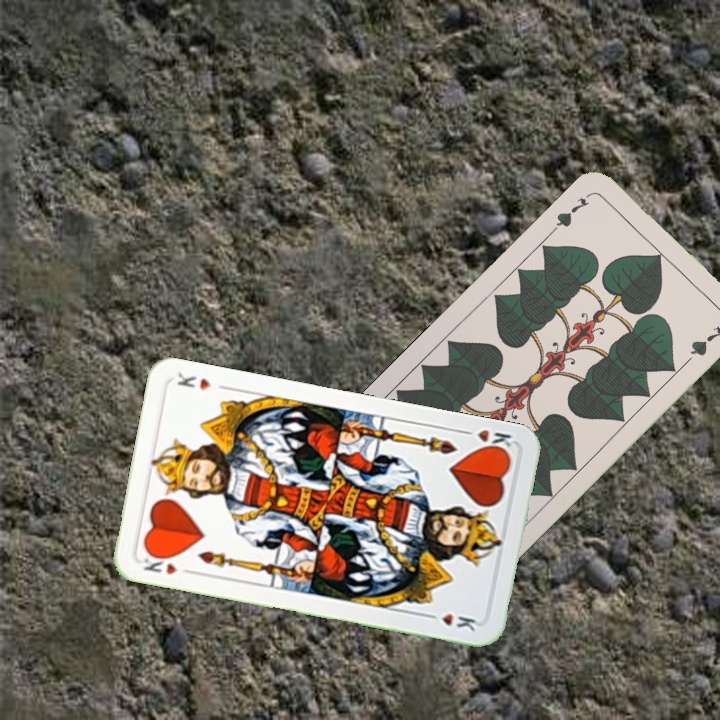G7: (549, 188, 595, 235)
HK: (457, 425, 516, 456), (139, 548, 195, 578)
